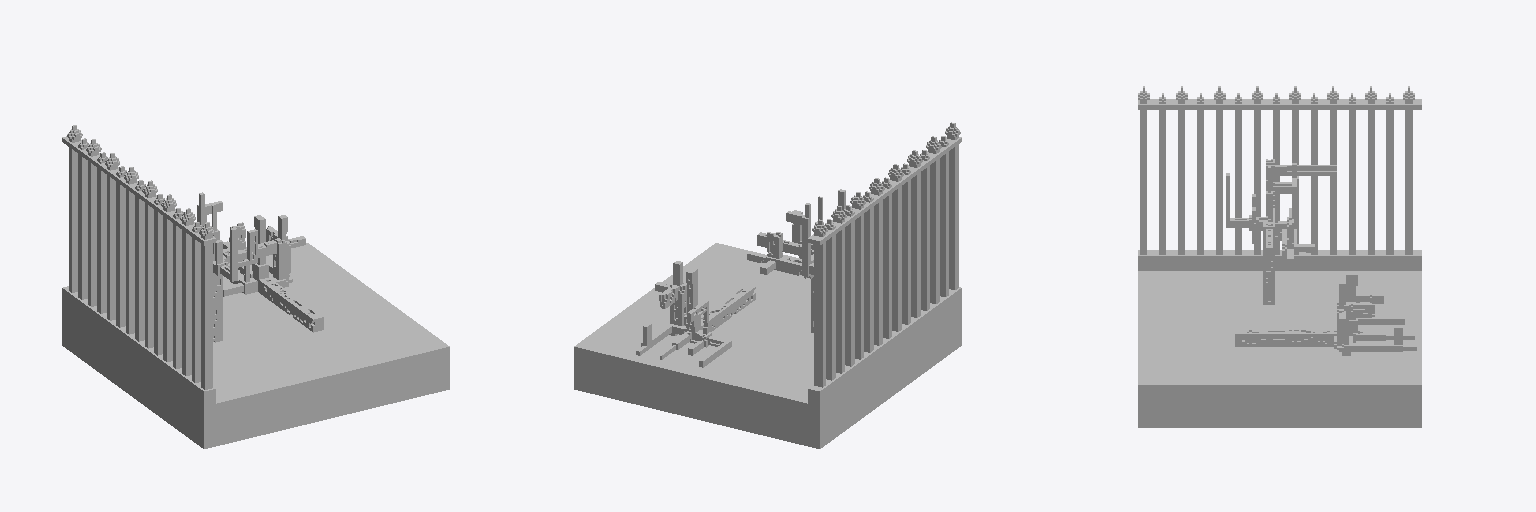
The model's file is 3d fon 3.1-1.obj.
The picture shows the model from 3 angles: view 1: azimuth 30°, elevation 25°; view 2: azimuth 150°, elevation 25°; view 3: azimuth 270°, elevation 25°; orthographic projection.
Visible parts, largest first — view 1: object 1; view 2: object 1; view 3: object 1.
Boxes of the visible parts, <box> form: object 1: <box>62,125,449,448</box>; object 1: <box>574,122,961,448</box>; object 1: <box>1138,86,1421,427</box>.
Size of the model in its own units: 12 by 10.4 by 12.